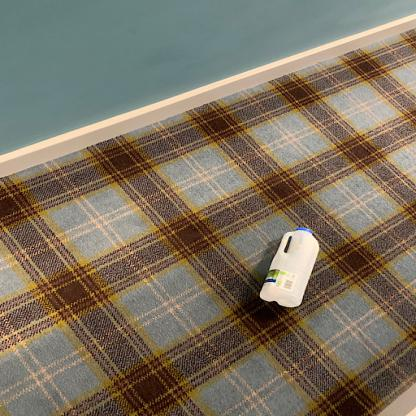trash: (257, 225, 320, 307)
